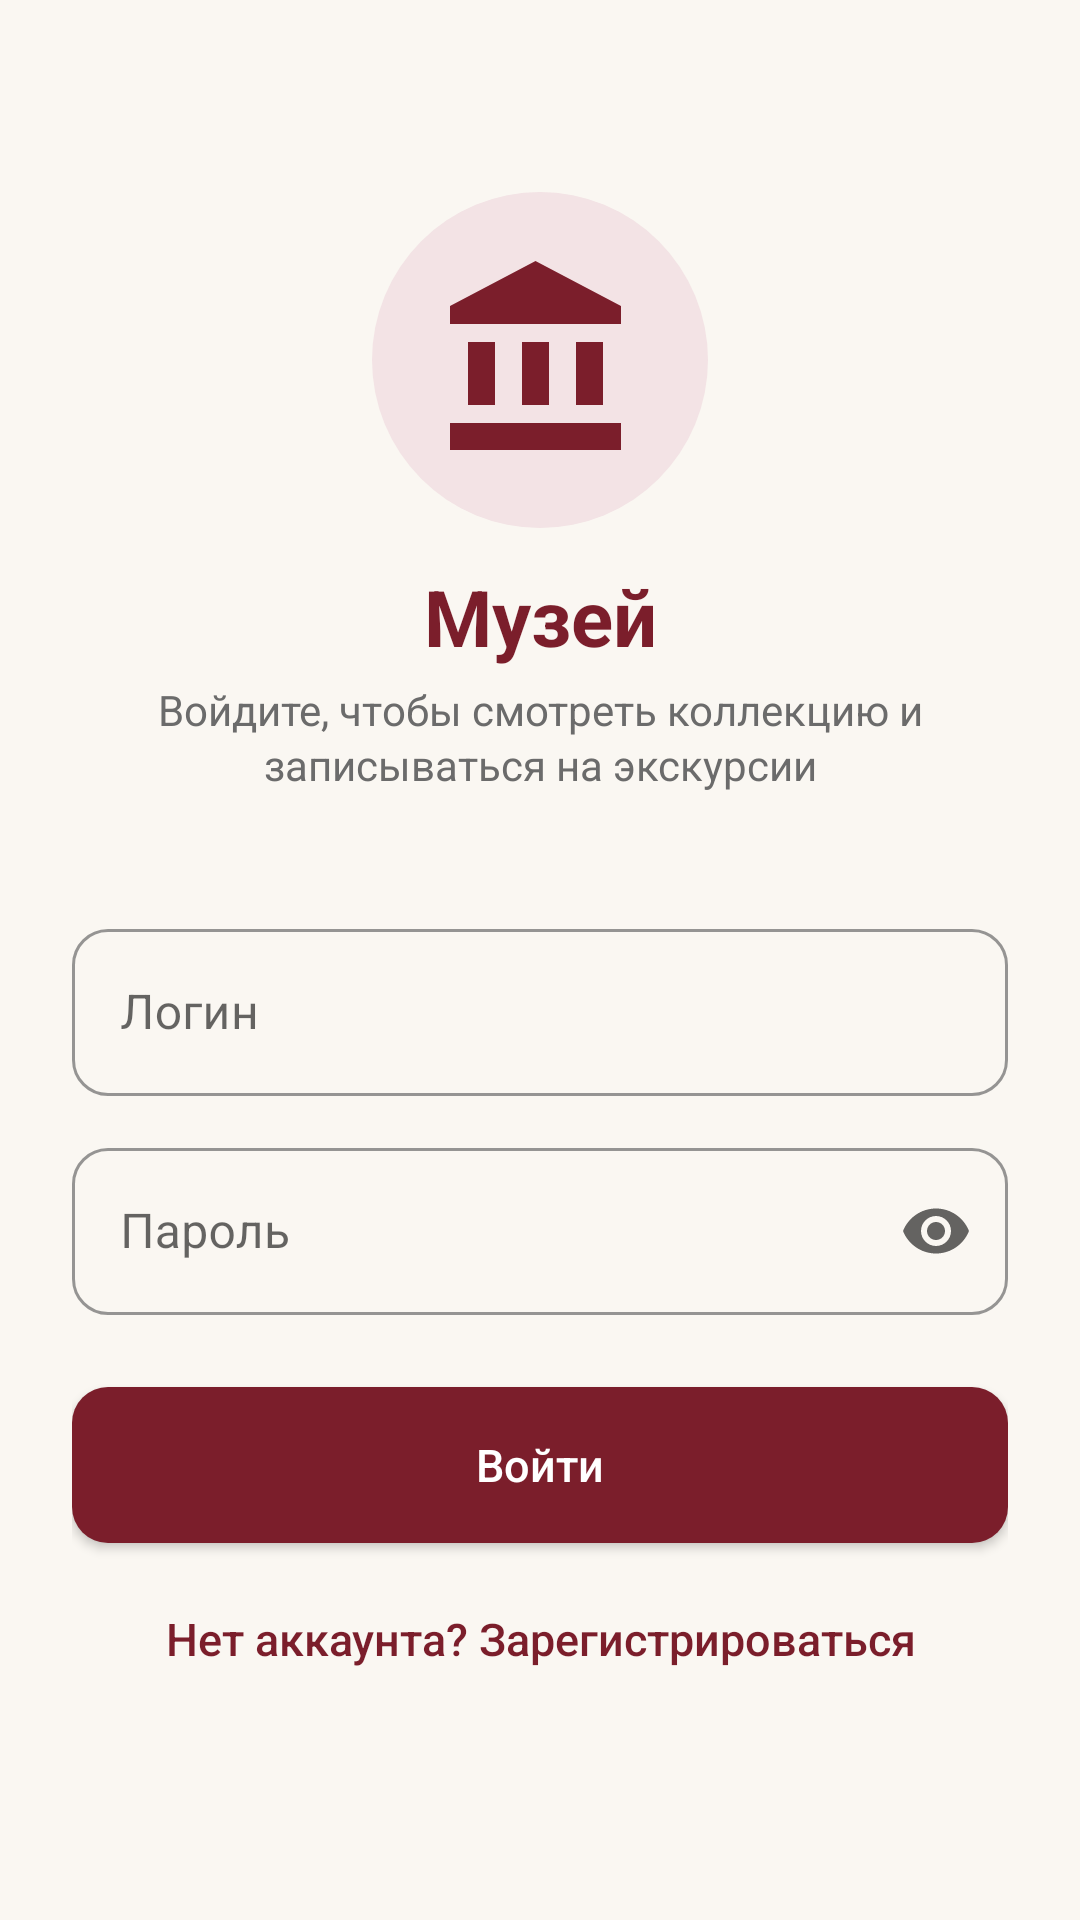

Where icons sit on this 1080w x 1920h app screen, as rect(x1, y1, x2, y2):
museum: rect(450, 261, 621, 450)
